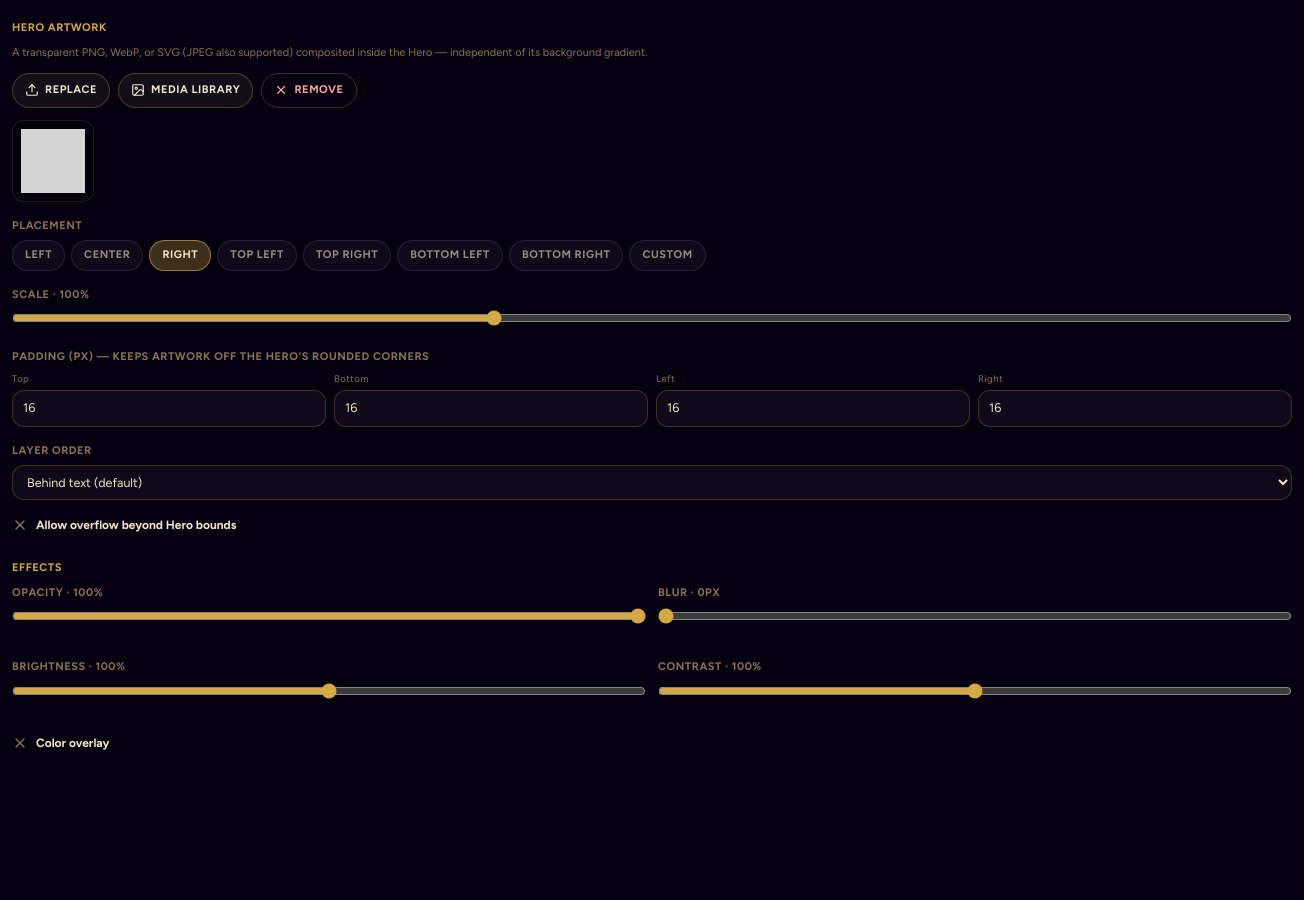
custom placement reveals X/Y sliders; non-custom placements hide them
Click the button with test id "hero-artwork-placement-custom" at [668, 255], box [629,240,706,270]
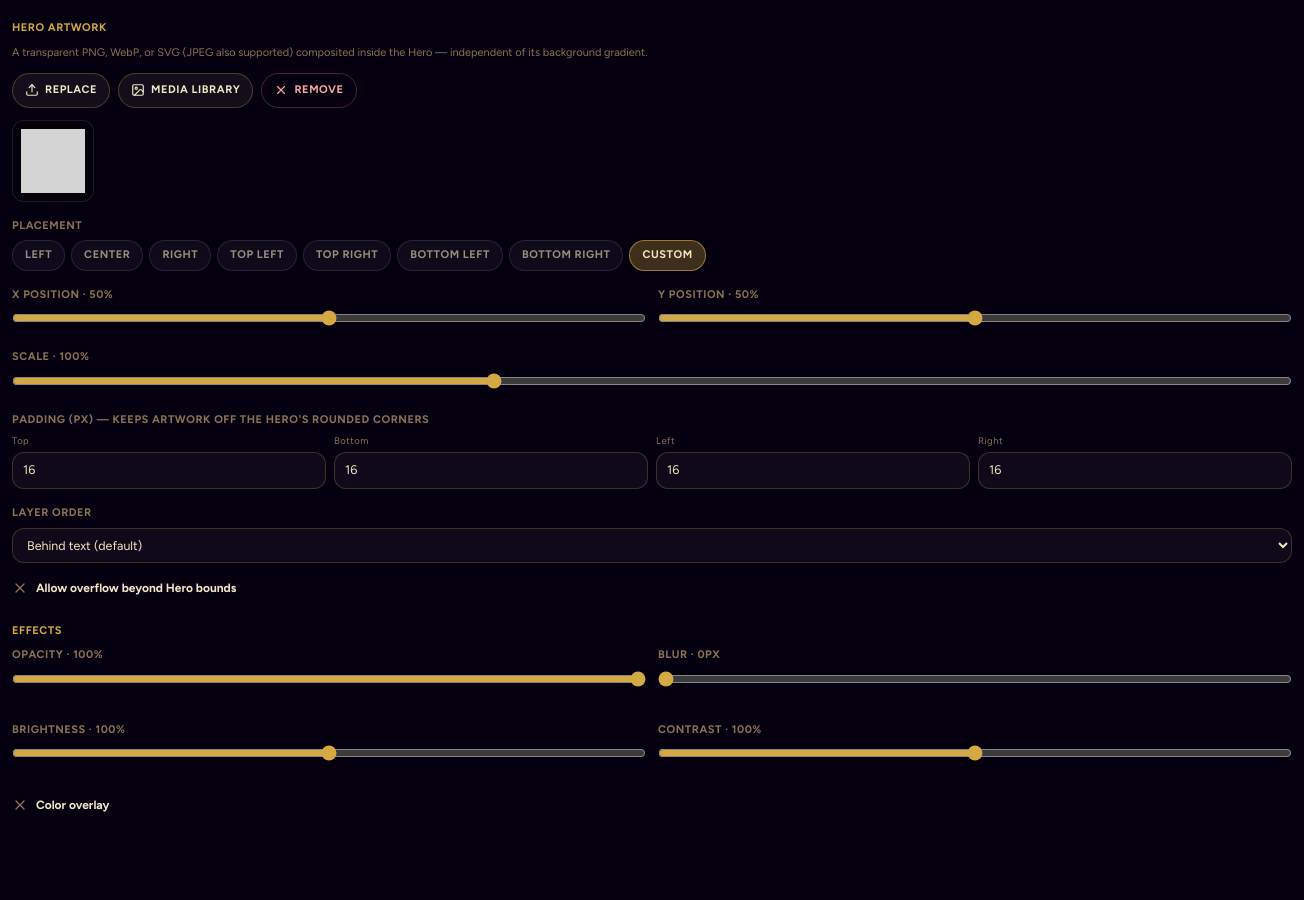
Check: the slider with test id "hero-artwork-custom-x" is shown, box [12,310,646,326]
Check: the slider with test id "hero-artwork-custom-y" is shown, box [658,310,1292,326]
